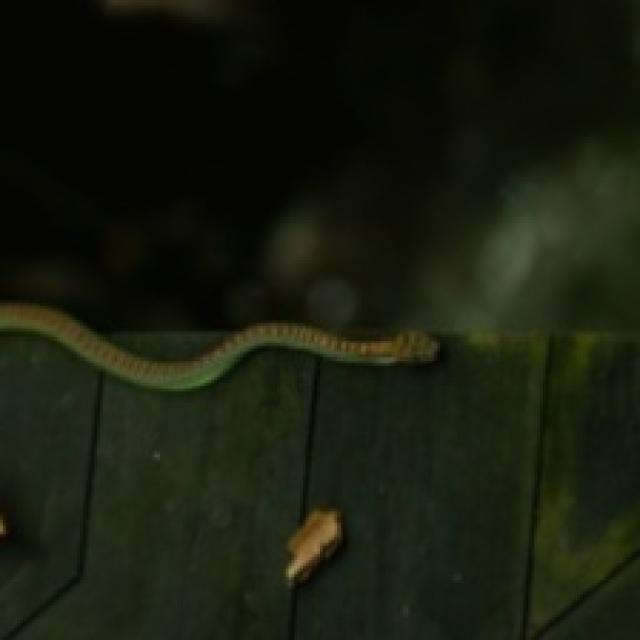paradise tree snake: (0, 303, 437, 389)
